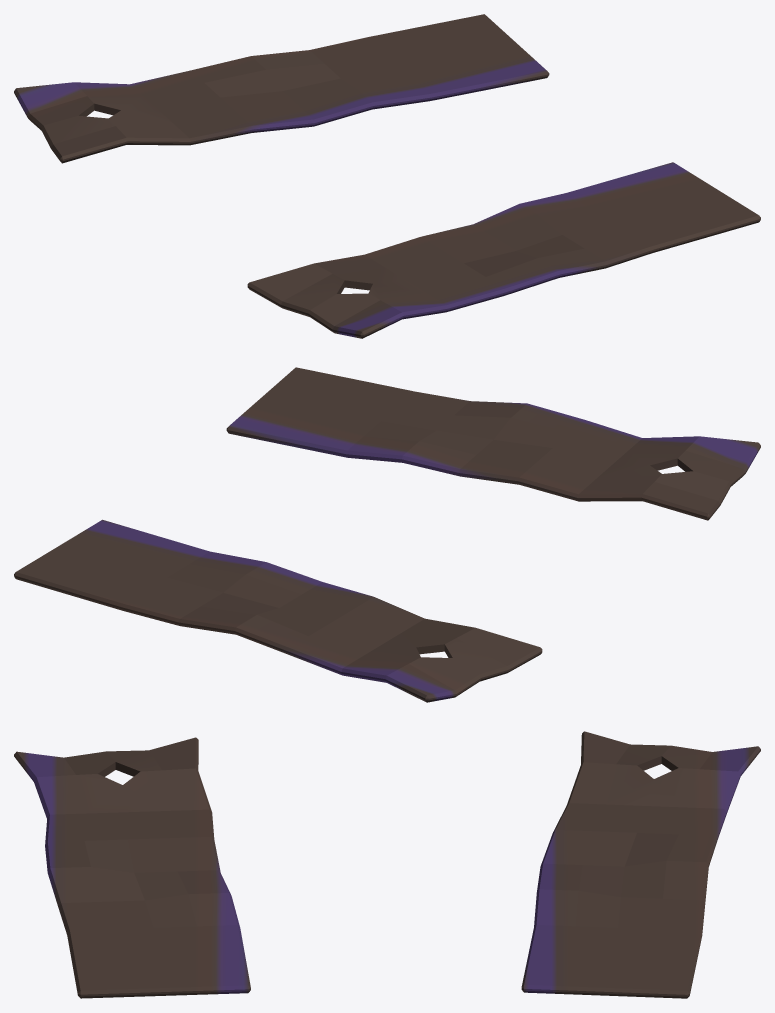
The model's file is loreBookTies01.fbx.
3 renders of one model, top to bottom at view 1: azimuth 30°, elevation 25°; view 2: azimuth 150°, elevation 25°; view 3: azimuth 270°, elevation 25°, orthographic. The views are drawn at different scales.
Visible parts, largest first — view 1: loreBookTies01; view 2: loreBookTies01; view 3: loreBookTies01.
Part boxes in pixels (box(x1,y1,x2,y2)): loreBookTies01: box(14, 14, 760, 338); loreBookTies01: box(14, 367, 760, 702); loreBookTies01: box(14, 731, 760, 998).
Bounding box in the file's own units: 2.51 × 0.0848 × 3.12.
1 material, 1 textured.
